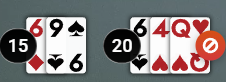4: (149, 17, 171, 40)
6: (26, 17, 46, 38), (130, 17, 150, 38)
9: (46, 17, 66, 40)
q: (169, 15, 194, 42)
